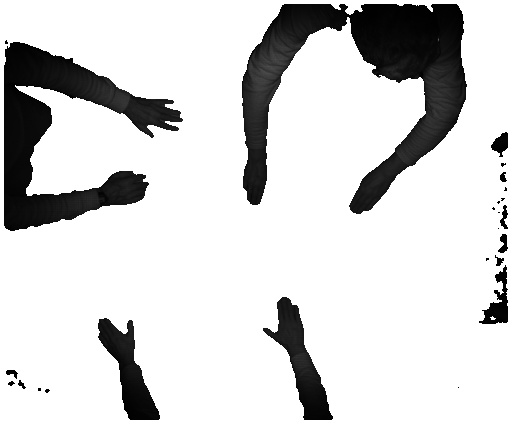fist: (103, 168, 151, 213)
hand: (256, 296, 311, 350), (128, 93, 183, 143), (96, 312, 143, 364), (344, 168, 389, 215), (240, 164, 271, 207)
